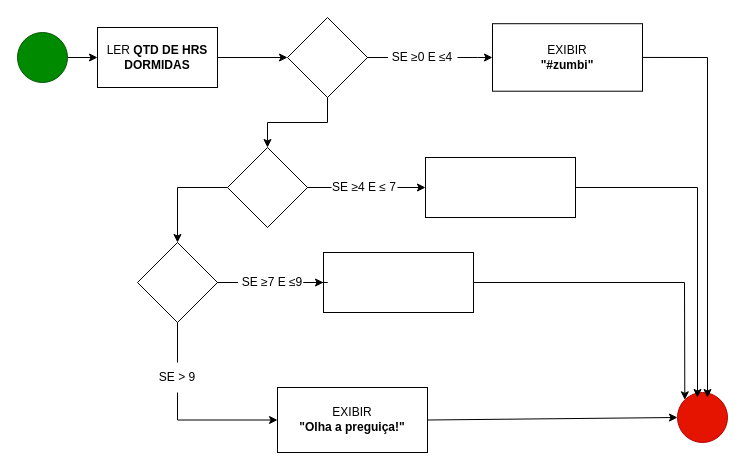
Some shapes in this 745 by 470 pixel diagram are drawn without their labels. The shapes that lost their labels are listed below. From the top down, each one's centre as x and y in pixels, then its label:
point 500,187: EXIBIR "Pouca concentração"
point 398,282: EXIBIR "Boa concentração"
